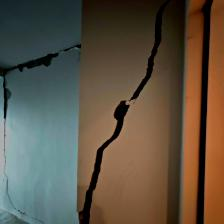High: (2, 4, 178, 224)
